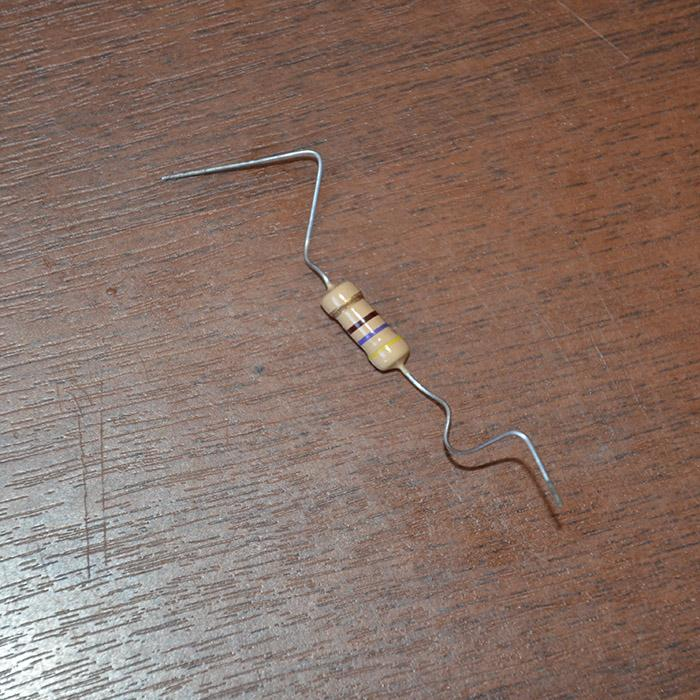resistor: (321, 278, 408, 370)
